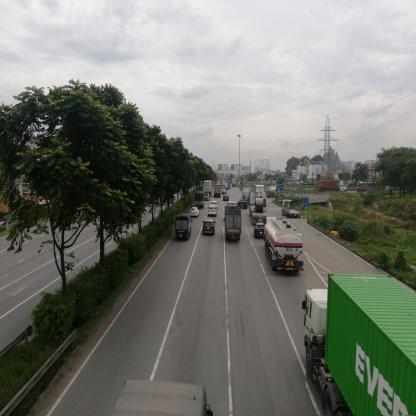car: (204, 220, 217, 236), (210, 209, 218, 219), (191, 209, 198, 216)
container: (307, 269, 416, 416), (251, 193, 268, 226)
truck: (266, 220, 308, 278), (224, 207, 243, 243), (177, 216, 192, 243), (283, 200, 301, 217), (196, 194, 204, 209)
